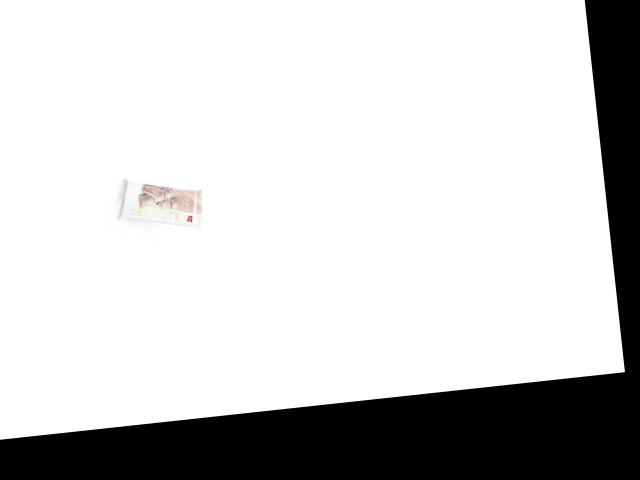chocolate: (117, 164, 206, 239)
